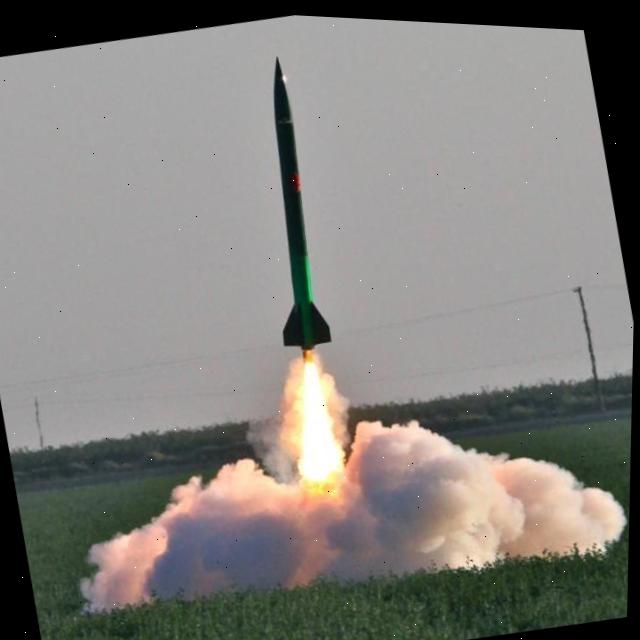missile: (224, 42, 373, 354)
